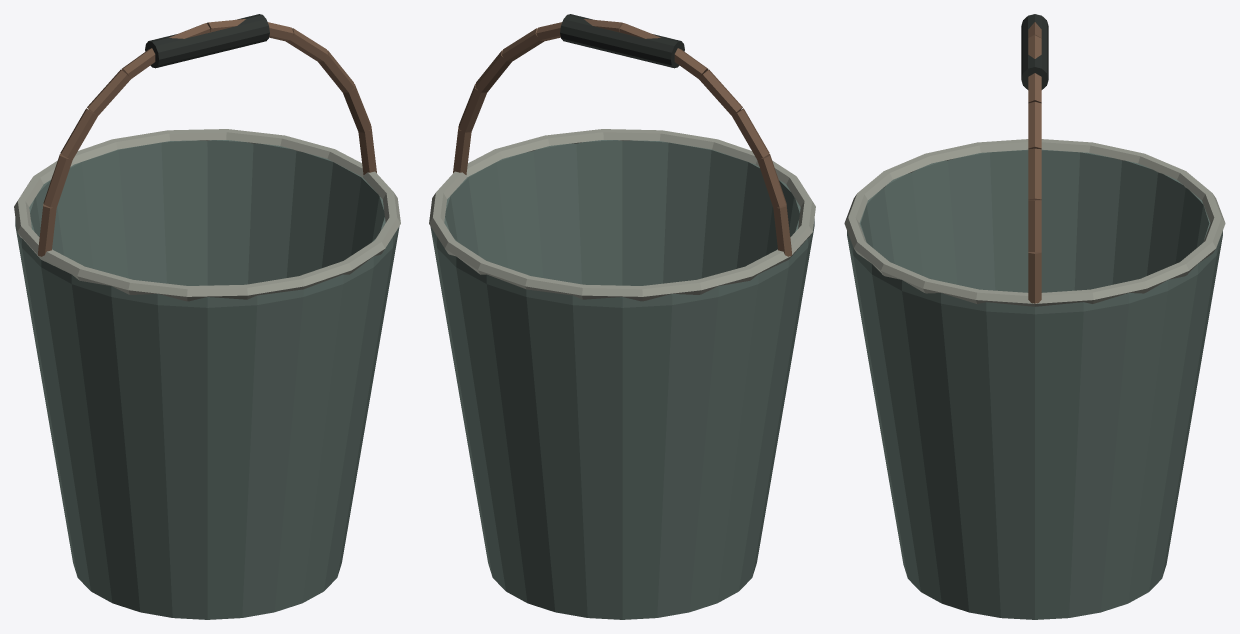
The model's file is bucket.glb.
3 views of the same model, side by side, from view 1: azimuth 30°, elevation 25°; view 2: azimuth 150°, elevation 25°; view 3: azimuth 270°, elevation 25° (orthographic). The views are drawn at different scales.
Parts seen in each view (by area): view 1: bucket; view 2: bucket; view 3: bucket.
Part boxes in pixels (x1=…): bucket: x1=14, y1=14, x2=400, y2=619; bucket: x1=429, y1=14, x2=815, y2=619; bucket: x1=844, y1=14, x2=1225, y2=619.
Bounding box in the file's own units: 0.3059 × 0.4659 × 0.304.
